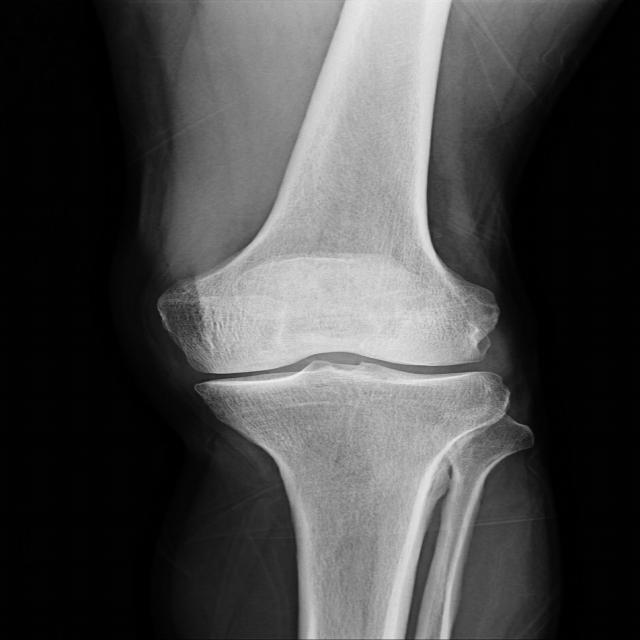normal: (138, 263, 524, 424)
